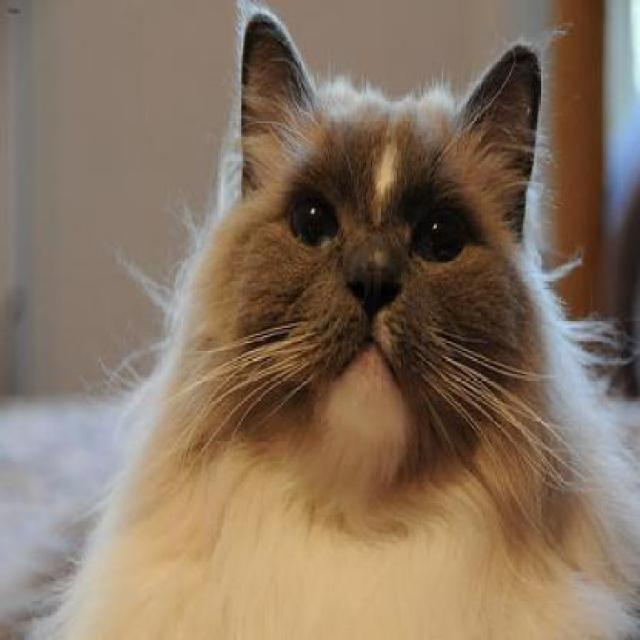cat: (41, 14, 639, 638)
